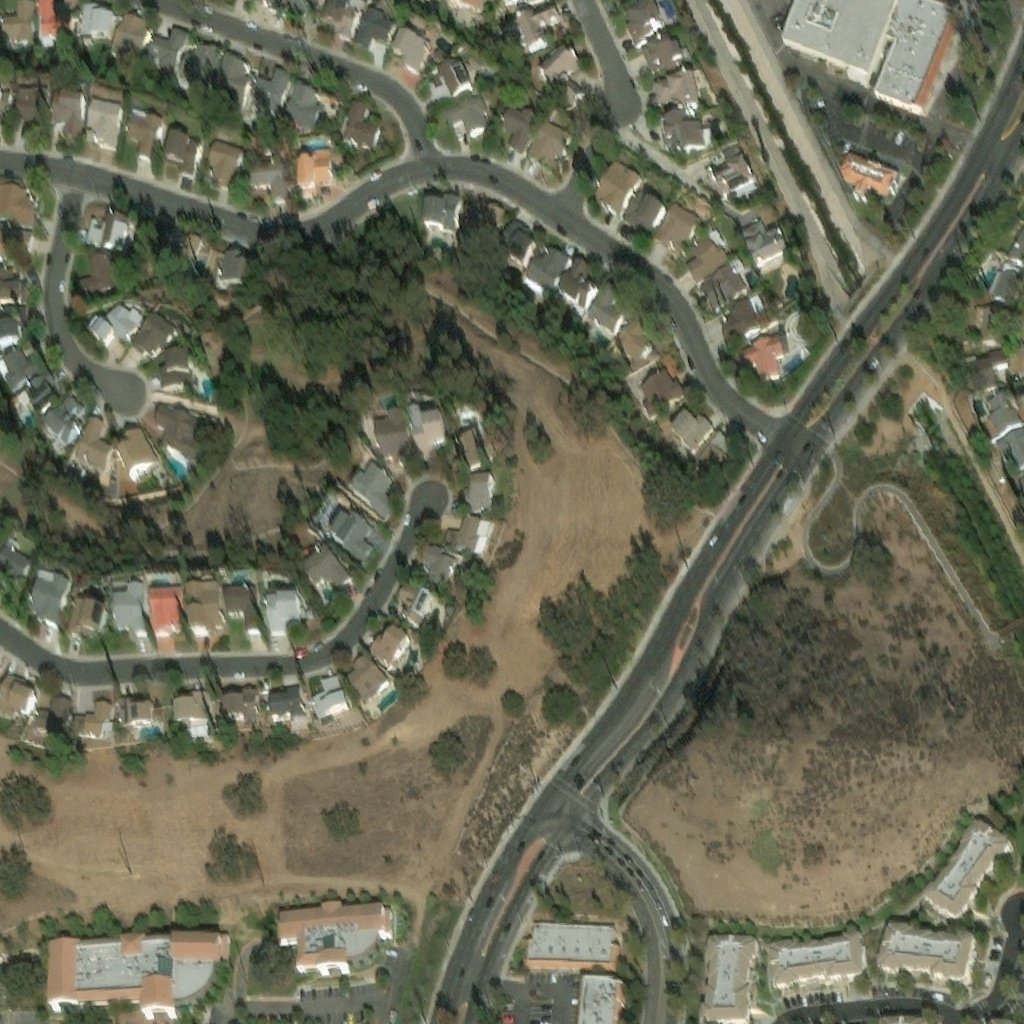0 no-damage: (782, 0, 964, 109), (48, 928, 228, 1016), (918, 818, 1013, 923), (277, 903, 392, 972), (876, 917, 980, 986), (768, 928, 866, 987), (699, 931, 758, 1022), (526, 922, 618, 973), (154, 406, 209, 458), (326, 503, 381, 555), (592, 162, 642, 216), (540, 46, 585, 104), (841, 153, 898, 198), (444, 429, 501, 473), (654, 203, 703, 252), (441, 514, 496, 557), (172, 688, 222, 735), (145, 27, 190, 79), (107, 12, 152, 64), (134, 318, 182, 366), (736, 340, 786, 386), (512, 3, 562, 48), (714, 145, 759, 195), (279, 79, 323, 129), (701, 266, 748, 312), (744, 225, 790, 272), (350, 459, 394, 508), (91, 304, 141, 347), (346, 649, 389, 699), (528, 122, 575, 167), (686, 237, 730, 285), (156, 231, 205, 274), (613, 311, 655, 361), (31, 581, 74, 629), (75, 417, 116, 467), (640, 366, 685, 411), (69, 686, 111, 734), (578, 981, 626, 1023), (76, 251, 120, 296), (523, 242, 568, 286), (626, 2, 669, 48), (308, 668, 349, 716), (299, 542, 349, 581), (462, 201, 507, 244), (367, 621, 412, 664), (251, 68, 293, 114), (668, 408, 714, 450), (418, 540, 455, 592), (443, 95, 491, 135), (585, 280, 625, 328), (87, 100, 126, 149), (125, 114, 167, 159), (177, 44, 222, 86), (666, 116, 711, 158), (656, 75, 703, 115), (43, 395, 83, 441), (212, 51, 251, 98), (410, 407, 447, 456), (642, 38, 689, 76), (208, 140, 245, 188), (624, 191, 666, 233), (391, 31, 432, 74), (355, 6, 395, 50), (967, 350, 1012, 389), (501, 108, 540, 152), (496, 216, 535, 260), (164, 131, 202, 176), (344, 100, 381, 146), (397, 580, 434, 626), (116, 588, 151, 636), (721, 301, 759, 344), (53, 94, 87, 142), (85, 211, 130, 247), (557, 256, 593, 301), (692, 442, 737, 478), (298, 147, 333, 193), (0, 341, 40, 381), (189, 585, 223, 631), (70, 603, 110, 642), (118, 429, 156, 470), (990, 261, 1023, 308), (990, 393, 1023, 439), (374, 411, 410, 453), (0, 669, 34, 713), (153, 591, 187, 635), (437, 58, 474, 97), (32, 691, 71, 728), (26, 367, 60, 409), (267, 680, 304, 717), (0, 0, 34, 40), (0, 182, 34, 222), (226, 587, 260, 627), (0, 548, 35, 586), (251, 166, 290, 199), (421, 193, 460, 226), (219, 249, 256, 283), (266, 591, 299, 629), (223, 685, 259, 719), (80, 1, 115, 35), (35, 0, 63, 42), (164, 359, 197, 394), (0, 221, 32, 257), (14, 87, 43, 126), (996, 431, 1023, 472), (320, 0, 360, 27), (976, 308, 1006, 344), (463, 476, 494, 510), (117, 693, 152, 722), (0, 263, 27, 296), (0, 301, 25, 334), (288, 0, 327, 19), (1008, 225, 1023, 265), (710, 432, 735, 454), (117, 473, 138, 493), (520, 271, 543, 288), (128, 312, 148, 330), (751, 297, 766, 317), (879, 1017, 928, 1023), (709, 232, 726, 249), (267, 0, 288, 10), (41, 576, 58, 588), (460, 0, 483, 8), (706, 133, 716, 151), (340, 114, 350, 130), (53, 434, 65, 446), (341, 135, 354, 144), (177, 77, 188, 86)
